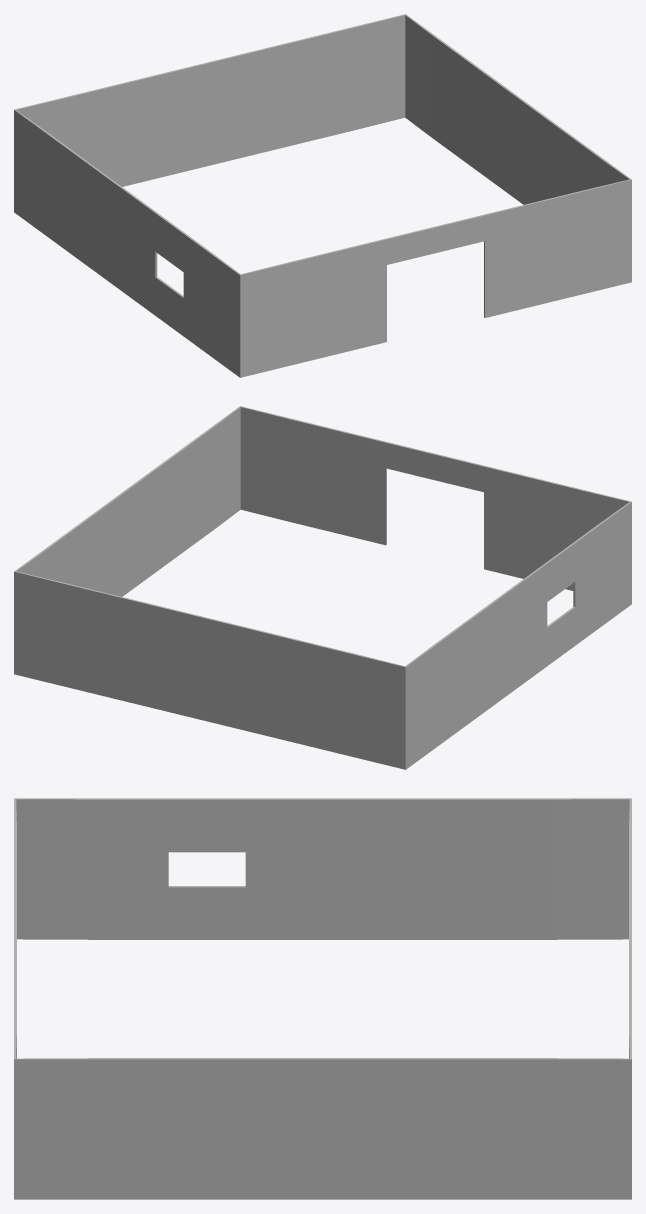
The model's file is lvl3-main-area.fbx.
3 renders of one model, top to bottom at view 1: azimuth 30°, elevation 25°; view 2: azimuth 150°, elevation 25°; view 3: azimuth 270°, elevation 25°, orthographic. The views are drawn at different scales.
Parts seen in each view (by area): view 1: Cube; view 2: Cube; view 3: Cube.
Boxes of the visible parts, x1=… form: Cube: x1=14, y1=14, x2=631, y2=377; Cube: x1=14, y1=406, x2=631, y2=769; Cube: x1=14, y1=798, x2=631, y2=1199.
Size of the model in its own units: 200 by 50.08 by 200.
